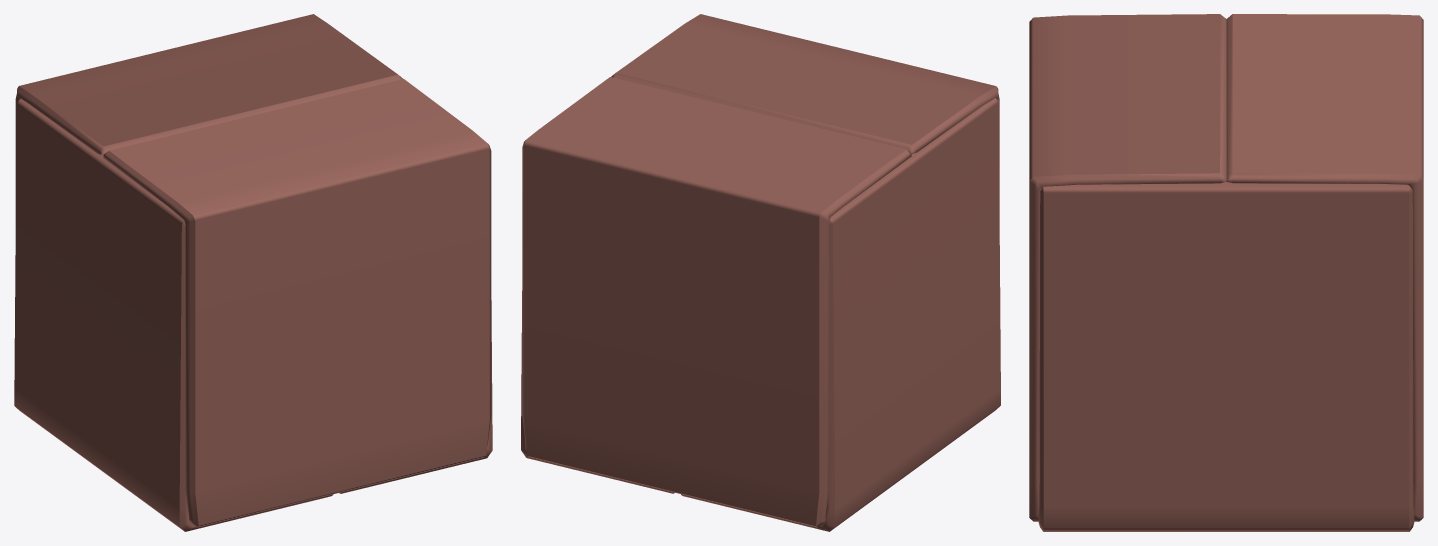
Rendered from MovingBox_C.fbx.
The picture shows the model from 3 angles, left to right: view 1: azimuth 30°, elevation 25°; view 2: azimuth 150°, elevation 25°; view 3: azimuth 270°, elevation 25°; orthographic projection. The views are drawn at different scales.
Visible parts, largest first — view 1: Box2, Box1; view 2: Box2, Box1; view 3: Box1, Box2.
Boxes of the visible parts, box(x1,y1,x2,y2) form: Box2: box(15, 14, 491, 527); Box1: box(14, 99, 492, 531); Box2: box(522, 14, 999, 527); Box1: box(521, 98, 1000, 531); Box1: box(1038, 182, 1414, 531); Box2: box(1029, 14, 1423, 521).
Bounding box in the file's own units: 111 × 109 × 109.
